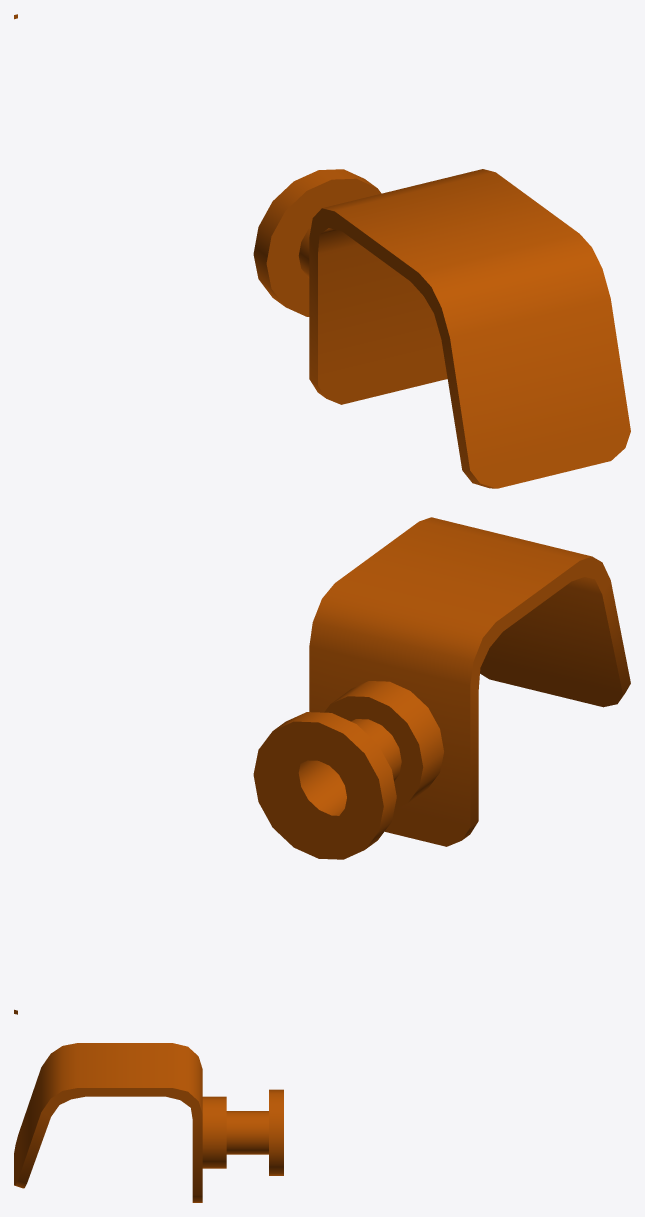
Rendered from MeshSoapBottle_30_0_GeomSubset_1.obj.
The picture shows the model from 3 angles, top to bottom: view 1: azimuth 30°, elevation 25°; view 2: azimuth 150°, elevation 25°; view 3: azimuth 270°, elevation 25°; orthographic projection. The views are drawn at different scales.
Visible parts, largest first — view 1: MeshSoapBottle_30_0_GeomSubset_1; view 2: MeshSoapBottle_30_0_GeomSubset_1; view 3: MeshSoapBottle_30_0_GeomSubset_1.
Part boxes in pixels (x1,y1,x2,y2): MeshSoapBottle_30_0_GeomSubset_1: (14, 14, 630, 488); MeshSoapBottle_30_0_GeomSubset_1: (14, 517, 630, 1014); MeshSoapBottle_30_0_GeomSubset_1: (14, 1043, 283, 1202).
Bounding box in the file's own units: 0.0405 × 0.0509 × 0.2346.
